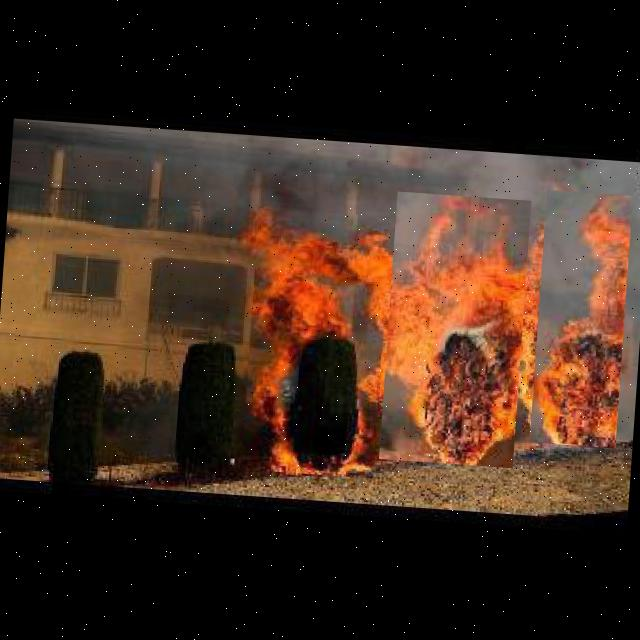fire: (378, 191, 530, 468), (240, 207, 390, 478), (529, 190, 632, 448)
